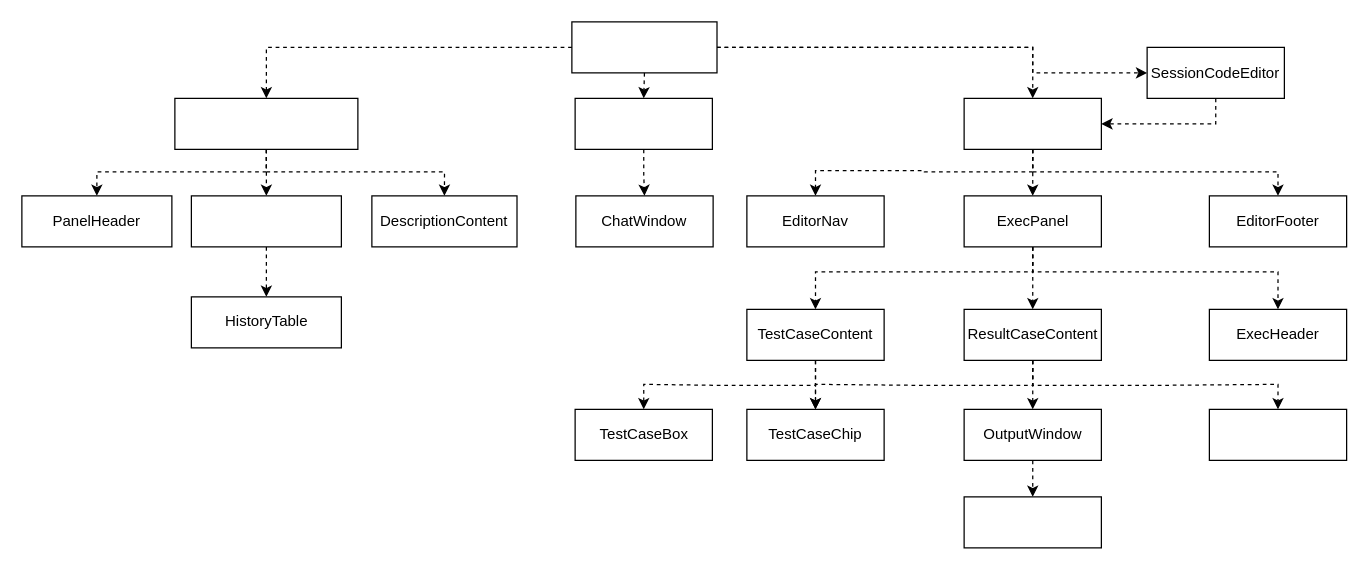
This 1369x570 diagram has some shape labels left out. The box of each missing label's shape, as (x1, y1, x2, y2) in pixels:
ChatWidget: (574, 97, 712, 149)
CodeEditor: (963, 97, 1101, 149)
OutputBox: (963, 496, 1101, 548)
OutputMetrics: (1208, 408, 1347, 460)
QuestionDescriptionPanel: (174, 97, 358, 149)
QuestionWorkspace: (571, 21, 717, 73)
SubmissionContent: (190, 195, 341, 247)
